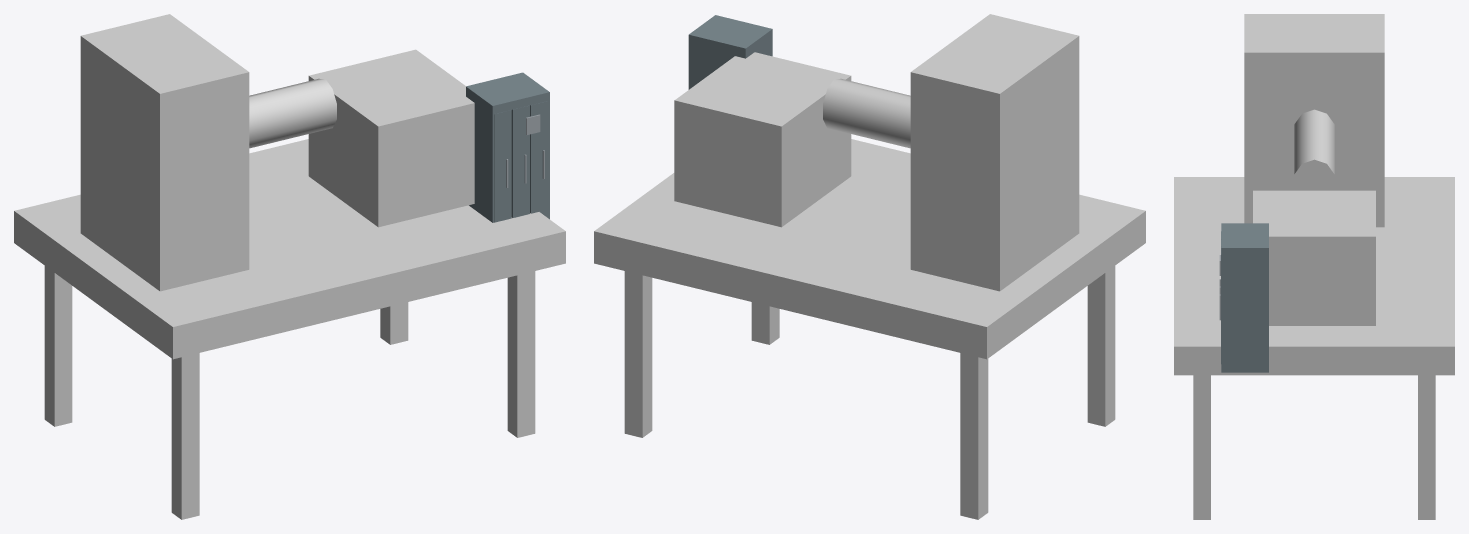
3 views of the same model, side by side, from view 1: azimuth 30°, elevation 25°; view 2: azimuth 150°, elevation 25°; view 3: azimuth 270°, elevation 25° (orthographic). The views are drawn at different scales.
Parts seen in each view (by area): view 1: worktable_5, housing_7, fixture_9, leg_4, leg_2, spindle_8, leg_1, g0.011, g0.005, g0.002, g0.003, g0.006 (+1 smaller); view 2: worktable_5, housing_7, fixture_9, leg_3, leg_1, spindle_8, leg_2, g0.005, g0.007, leg_4; view 3: worktable_5, housing_7, fixture_9, g0.008, spindle_8, leg_3, leg_4, g0.005.
Boxes of the visible parts, x1,y1,x2,y2 form: worktable_5: (14, 139, 565, 359); housing_7: (80, 14, 249, 291); fixture_9: (308, 49, 474, 227); leg_4: (507, 271, 535, 437); leg_2: (171, 353, 199, 519); spindle_8: (249, 78, 336, 148); leg_1: (44, 266, 72, 426); g0.011: (467, 92, 495, 222); g0.005: (466, 74, 546, 114); g0.002: (511, 105, 529, 217); g0.003: (494, 110, 511, 222); g0.006: (530, 101, 548, 217); worktable_5: (594, 139, 1145, 359); housing_7: (910, 14, 1079, 291); fixture_9: (674, 52, 851, 227); leg_3: (624, 271, 652, 437); leg_1: (960, 353, 988, 519); spindle_8: (823, 78, 910, 148); leg_2: (1087, 266, 1115, 426); g0.005: (689, 15, 772, 56); g0.007: (688, 33, 747, 89); leg_4: (751, 302, 779, 344); worktable_5: (1174, 177, 1454, 375); housing_7: (1244, 14, 1384, 227); fixture_9: (1253, 190, 1375, 325); g0.008: (1221, 246, 1268, 372); spindle_8: (1294, 109, 1334, 190); leg_3: (1418, 375, 1435, 519); leg_4: (1193, 375, 1210, 519); g0.005: (1221, 223, 1265, 247).
Bounding box in the file's own units: 2.2 × 2.1 × 1.5.
